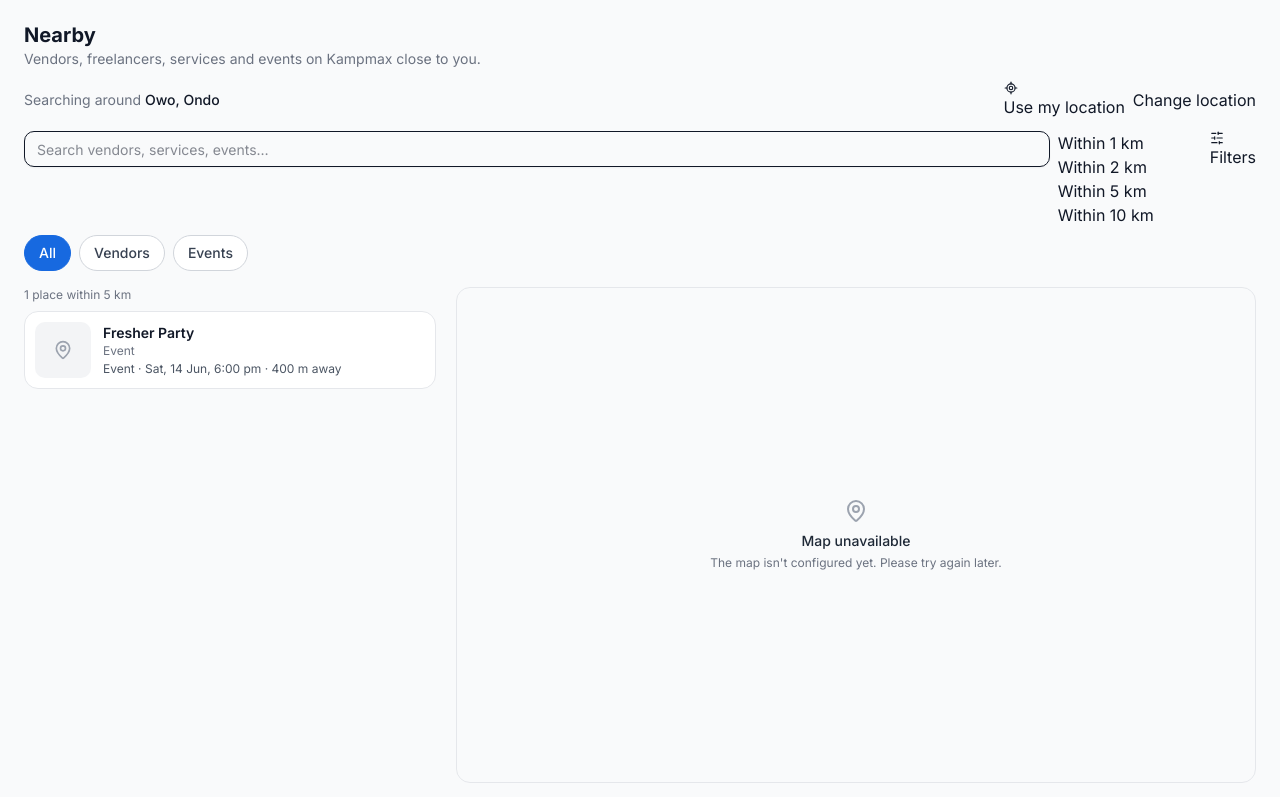
Test case: NearbyExplorer › shows an event's date and time on its card and preview
Expected: the text "Event · Sat, 14 Jun, 6:00 pm · 400 m away" is shown, x1=103 y1=361 x2=342 y2=376
Click the button "Fresher Party": click(63, 350) x1=24 y1=311 x2=436 y2=389
(page scrolled)
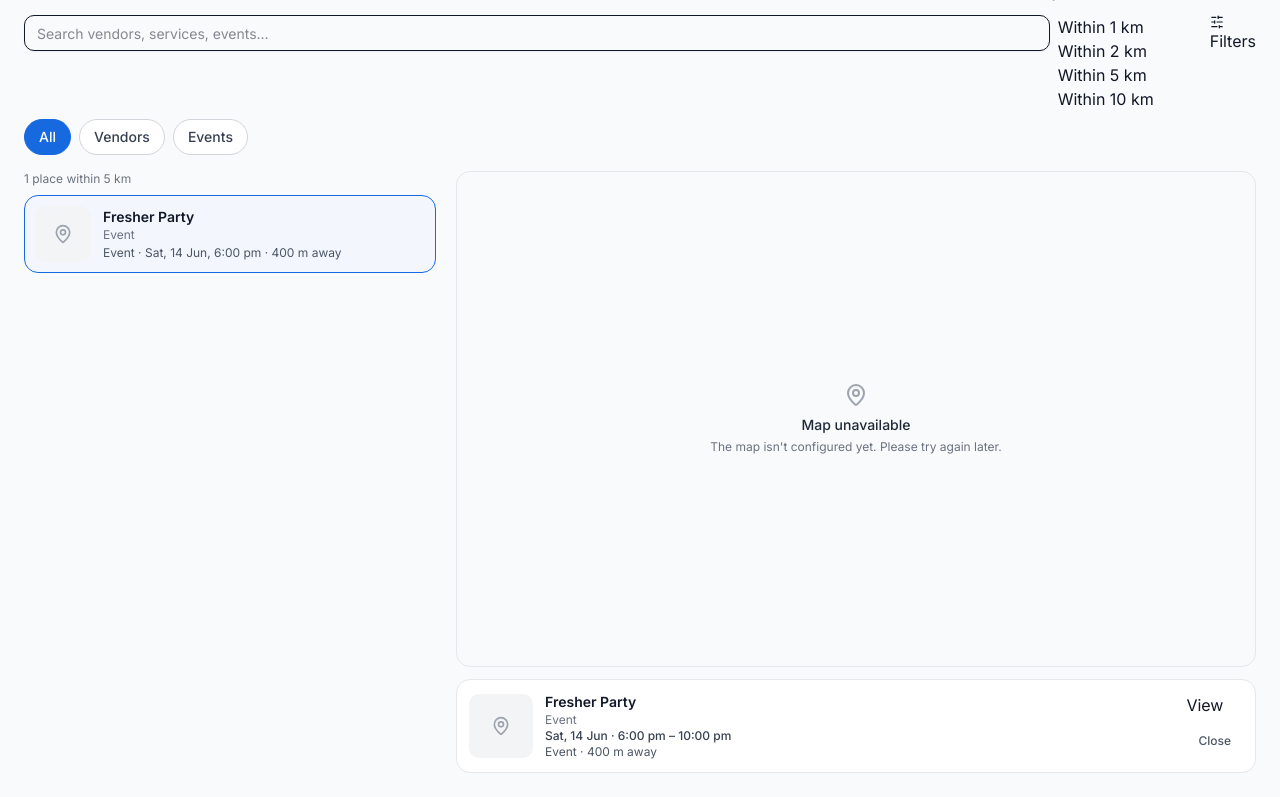
Result: the element named "Selected place" shows "Jun" at x1=545 y1=728 x2=608 y2=743
